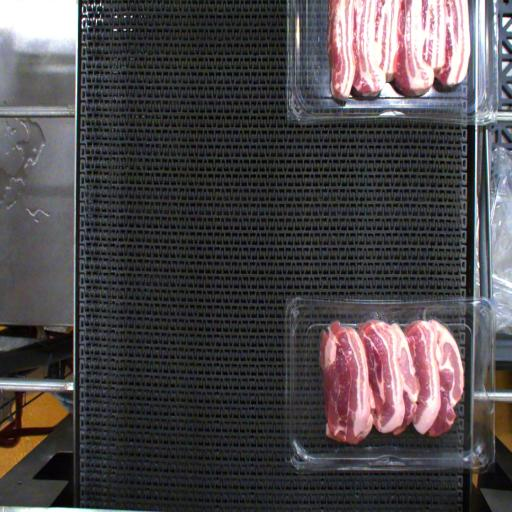unsealed: (350, 304, 461, 338)
